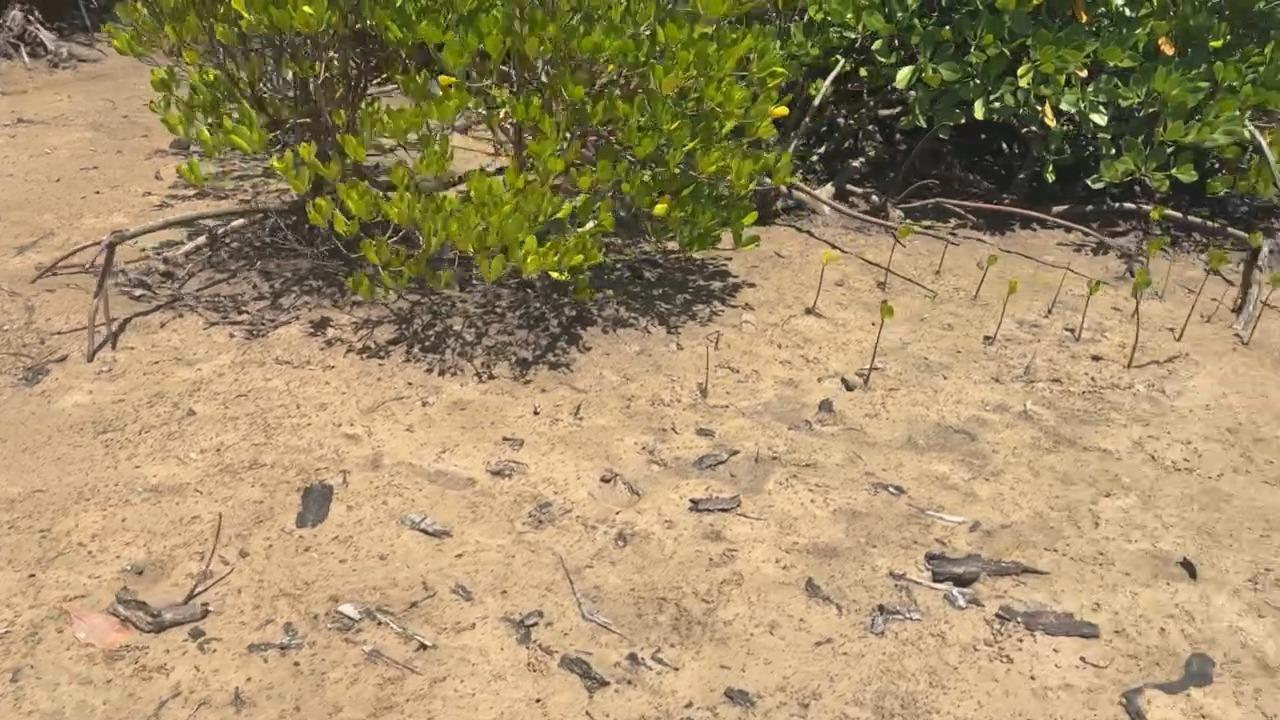Tree: (1177, 248, 1232, 341), (1133, 236, 1168, 317), (1127, 267, 1152, 370), (865, 300, 895, 382), (1246, 272, 1280, 343), (885, 224, 914, 288), (989, 279, 1018, 343), (812, 250, 839, 308), (1076, 280, 1101, 341), (973, 253, 999, 298), (937, 242, 951, 273), (705, 347, 709, 394)
